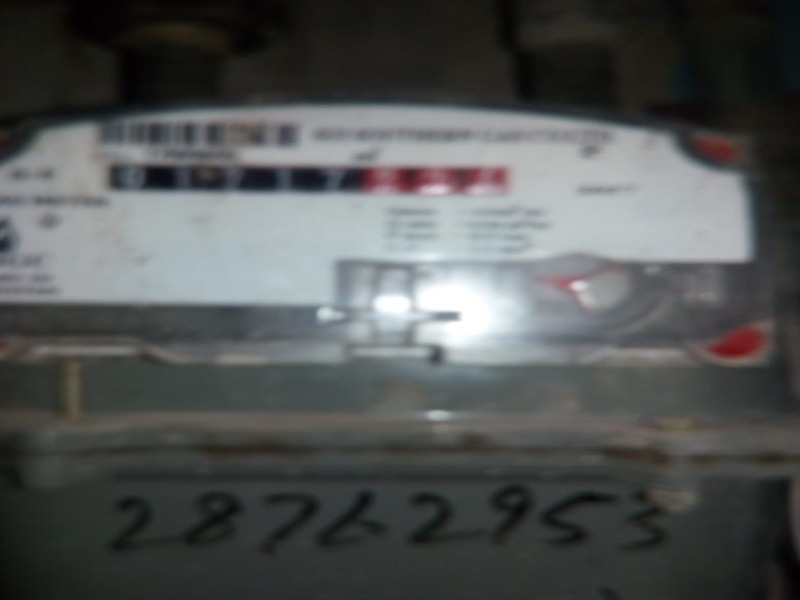ssgc: (103, 159, 513, 201)
